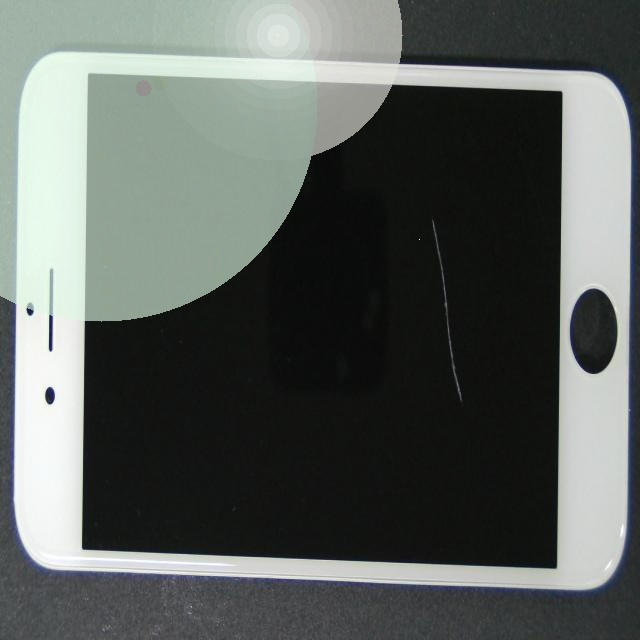scratch: (238, 101, 640, 290)
